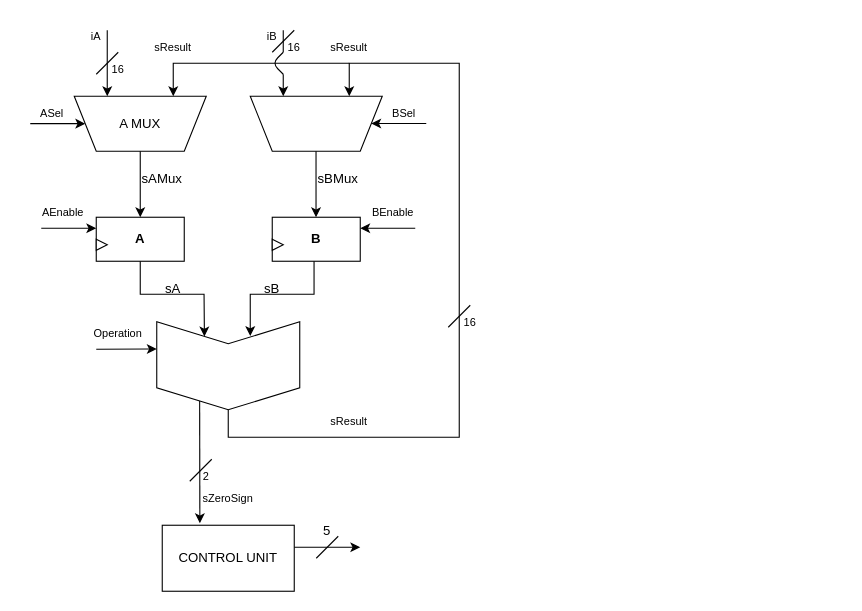
The diagram is 862 pixels wide and 611 high, and some of its shapes have lost their labels. The centre of each missing label's shape, as x and y in pixels:
ALU: [228,365]
B MUX: [315,123]
